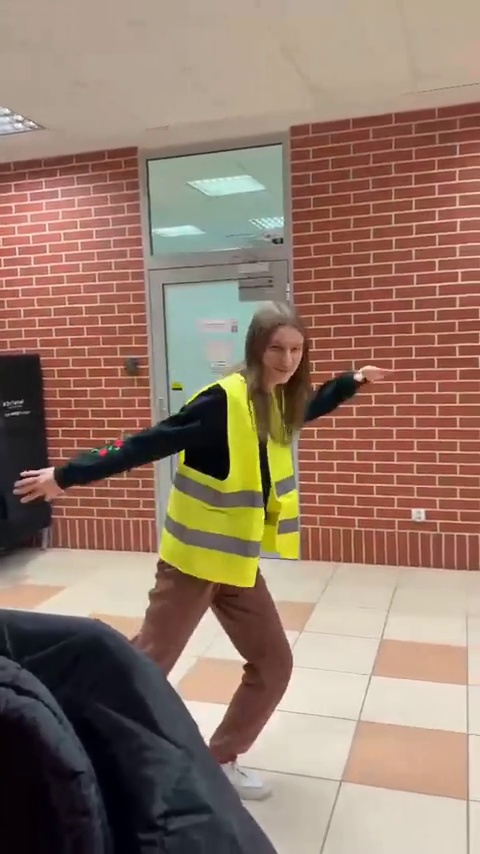vest: (166, 307, 331, 795)
